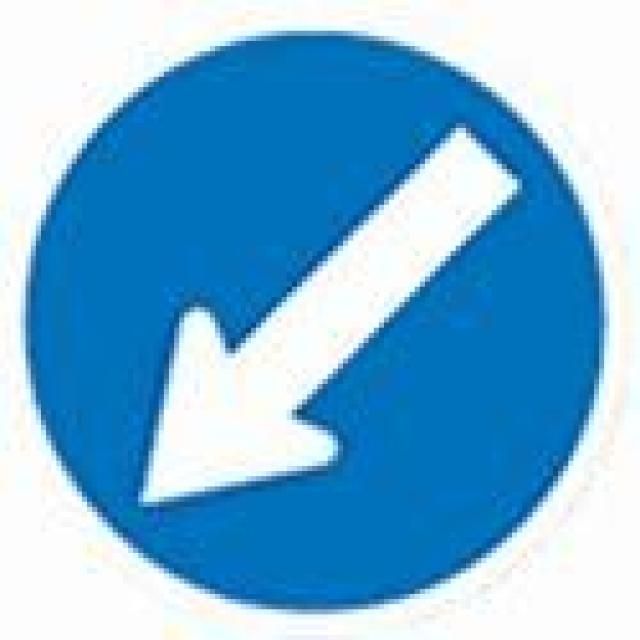COMPULSARY_KEEP_LEFT: (29, 31, 612, 618)
